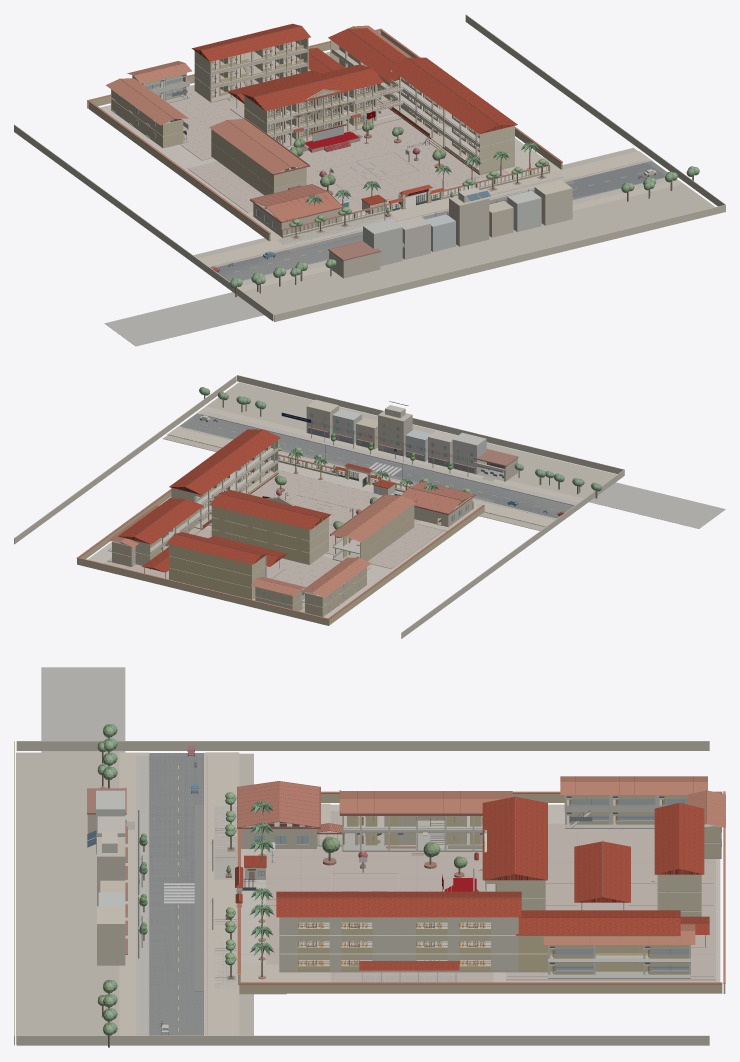
Rendered from THPT_Kien_An_V61_Notice_Board_12A3_Photo_FIXED.glb.
3 renders of one model, top to bottom at view 1: azimuth 30°, elevation 25°; view 2: azimuth 150°, elevation 25°; view 3: azimuth 270°, elevation 25°, orthographic. The views are drawn at different scales.
Parts seen in each view (by area): view 1: V29_OPPOSITE_OUTER_GROUND, GROUND_COURTYARD, ROAD_back_lot, RIGHT_ROOF, WORLD_EDGE_OPPOSITE, CENTER_ROOF, REAR_COURTYARD_GROUND, V48_LEFT_TEACHERS_RED_TILE_ROOF, WORLD_EDGE_LEFT, WORLD_EDGE_RIGHT, RIGHT_REAR_2F_ROOF, REAR_ROOF (+34 smaller); view 2: V29_OPPOSITE_OUTER_GROUND, GROUND_COURTYARD, V29_STREET_WALKABLE, ROAD_back_lot, RIGHT_ROOF, ROAD_road, WORLD_EDGE_OPPOSITE, V29_OPPOSITE_SIDEWALK_WALKABLE, CENTER_ROOF, RIGHT_REAR_2F_ROOF, CAMPUS_PERIMETER_REAR, V48_LEFT_TEACHERS_RED_TILE_ROOF (+35 smaller); view 3: V29_OPPOSITE_OUTER_GROUND, V29_STREET_WALKABLE, GROUND_COURTYARD, REAR_COURTYARD_GROUND, WORLD_EDGE_RIGHT, WORLD_EDGE_LEFT, RIGHT_ROOF, ROAD_back_lot, CENTER_ROOF, CAMPUS_PERIMETER_RIGHT, RIGHT_REAR_2F_ROOF, V29_OPPOSITE_SIDEWALK_WALKABLE (+40 smaller).
Part boxes in pixels (bbox=[...]): V29_OPPOSITE_OUTER_GROUND: bbox=[243, 184, 714, 319]; GROUND_COURTYARD: bbox=[187, 118, 507, 212]; ROAD_back_lot: bbox=[104, 292, 263, 346]; RIGHT_ROOF: bbox=[387, 57, 517, 134]; WORLD_EDGE_OPPOSITE: bbox=[274, 204, 725, 321]; CENTER_ROOF: bbox=[241, 64, 383, 110]; REAR_COURTYARD_GROUND: bbox=[169, 52, 394, 160]; V48_LEFT_TEACHERS_RED_TILE_ROOF: bbox=[209, 118, 307, 173]; WORLD_EDGE_LEFT: bbox=[14, 124, 273, 321]; WORLD_EDGE_RIGHT: bbox=[465, 14, 725, 206]; RIGHT_REAR_2F_ROOF: bbox=[328, 28, 406, 82]; REAR_ROOF: bbox=[192, 23, 310, 61]; V29_OPPOSITE_OUTER_GROUND: bbox=[206, 382, 616, 498]; GROUND_COURTYARD: bbox=[250, 470, 443, 568]; V29_STREET_WALKABLE: bbox=[179, 414, 573, 517]; ROAD_back_lot: bbox=[589, 482, 725, 528]; RIGHT_ROOF: bbox=[169, 429, 280, 494]; ROAD_road: bbox=[275, 433, 497, 497]; WORLD_EDGE_OPPOSITE: bbox=[237, 375, 624, 475]; V29_OPPOSITE_SIDEWALK_WALKABLE: bbox=[196, 406, 583, 505]; CENTER_ROOF: bbox=[209, 490, 331, 529]; RIGHT_REAR_2F_ROOF: bbox=[118, 497, 203, 544]; CAMPUS_PERIMETER_REAR: bbox=[77, 558, 329, 625]; V48_LEFT_TEACHERS_RED_TILE_ROOF: bbox=[331, 494, 415, 542]; V29_OPPOSITE_OUTER_GROUND: bbox=[16, 752, 119, 1044]; V29_STREET_WALKABLE: bbox=[149, 753, 203, 1035]; GROUND_COURTYARD: bbox=[266, 811, 493, 982]; REAR_COURTYARD_GROUND: bbox=[506, 823, 715, 980]; WORLD_EDGE_RIGHT: bbox=[16, 1035, 709, 1045]; WORLD_EDGE_LEFT: bbox=[16, 741, 709, 750]; RIGHT_ROOF: bbox=[276, 891, 521, 917]; ROAD_back_lot: bbox=[41, 667, 125, 752]; CENTER_ROOF: bbox=[482, 796, 547, 880]; CAMPUS_PERIMETER_RIGHT: bbox=[239, 984, 722, 993]; RIGHT_REAR_2F_ROOF: bbox=[516, 910, 680, 935]; V29_OPPOSITE_SIDEWALK_WALKABLE: bbox=[119, 752, 149, 1035].
Size of the model in its own units: 216 by 17.83 by 169.
Materials: 45 (44 with a texture image).
